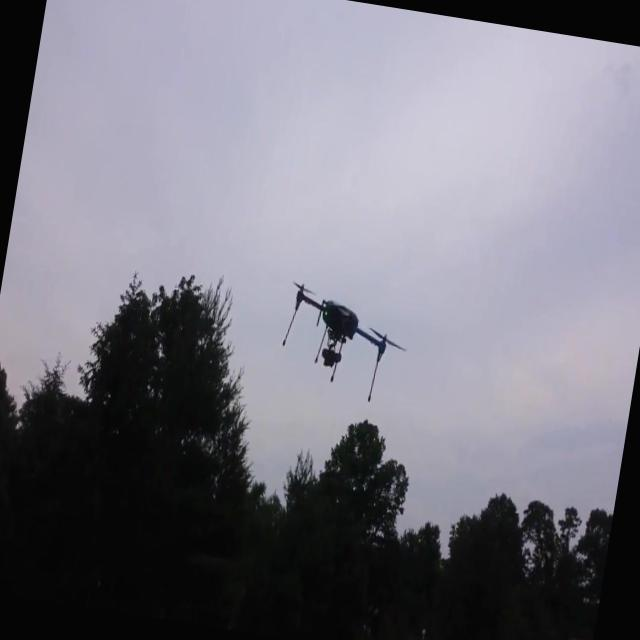drone: (272, 278, 414, 408)
